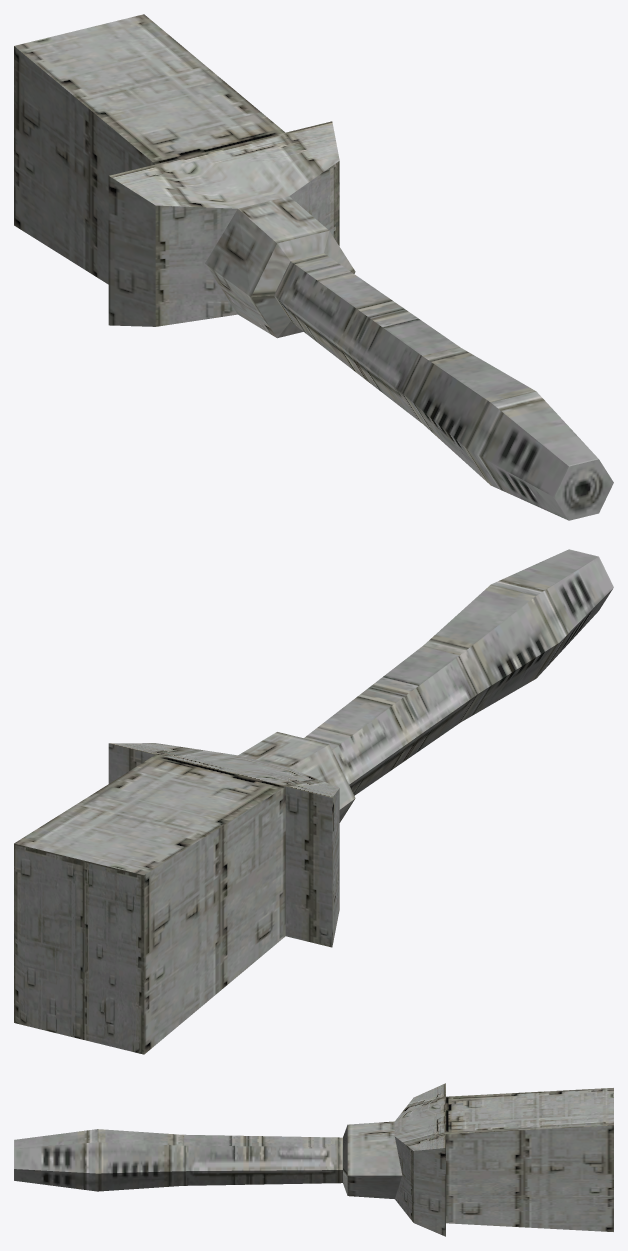
The model's file is ins_all_def_turret_lg_s01_barrel_l1.fbx.
3 renders of one model, top to bottom at view 1: azimuth 30°, elevation 25°; view 2: azimuth 150°, elevation 25°; view 3: azimuth 270°, elevation 25°, orthographic. The views are drawn at different scales.
Visible parts, largest first — view 1: mesh_node; view 2: mesh_node; view 3: mesh_node.
Boxes of the visible parts, left/top/right/bottom form: mesh_node: left=14, top=14, right=613, bottom=520; mesh_node: left=14, top=549, right=613, bottom=1054; mesh_node: left=14, top=1083, right=613, bottom=1236.
Bounding box in the file's own units: 0.8954 × 0.687 × 3.5.
